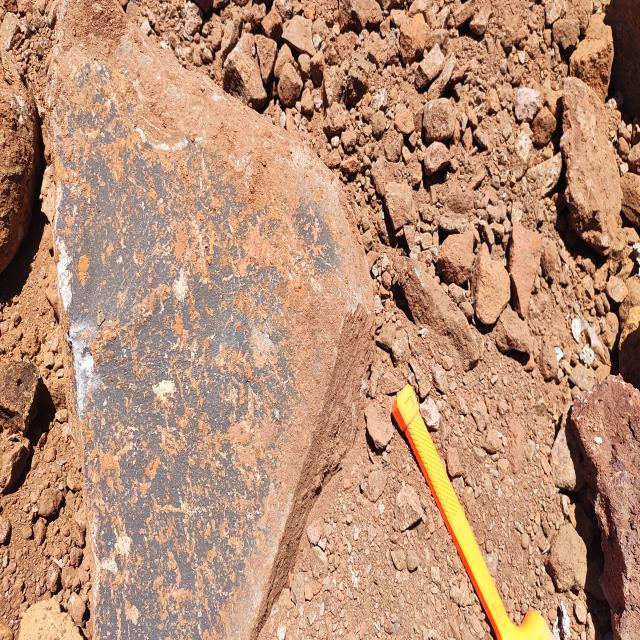Orange_hammer: (391, 382, 555, 639)
